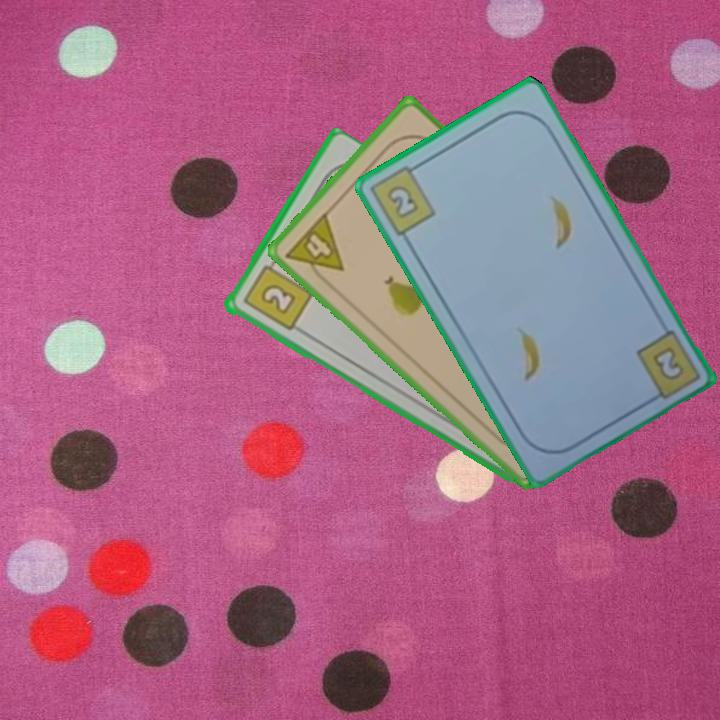2b: (239, 255, 315, 334), (366, 158, 439, 240), (648, 342, 687, 384)
4p: (281, 208, 347, 289)
